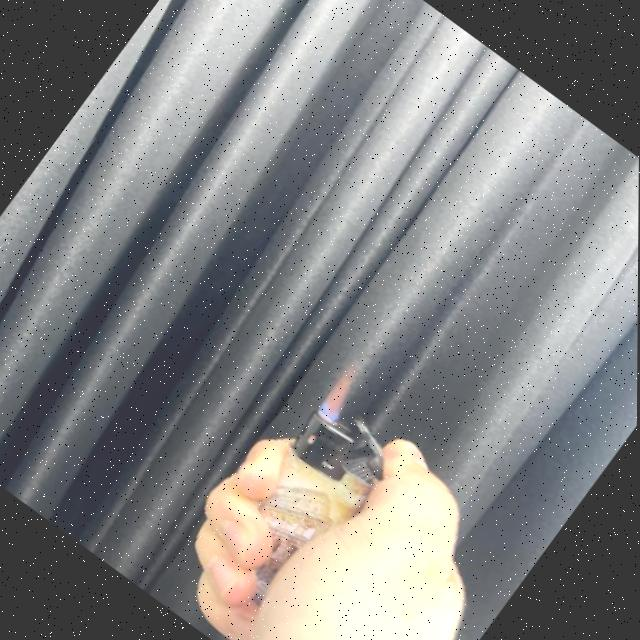Fire: (311, 358, 370, 424)
